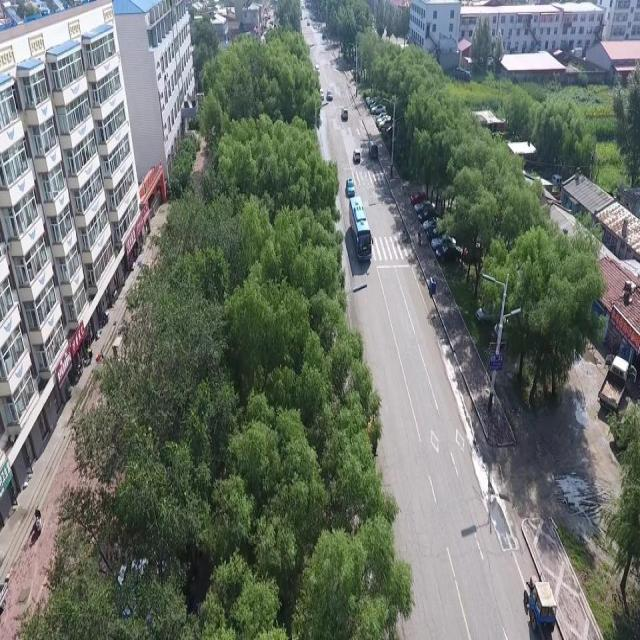tree: (18, 23, 416, 638), (480, 218, 605, 410), (600, 397, 639, 615)
